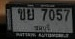txt02: (17, 8, 26, 21)
txt29: (26, 8, 35, 21)
